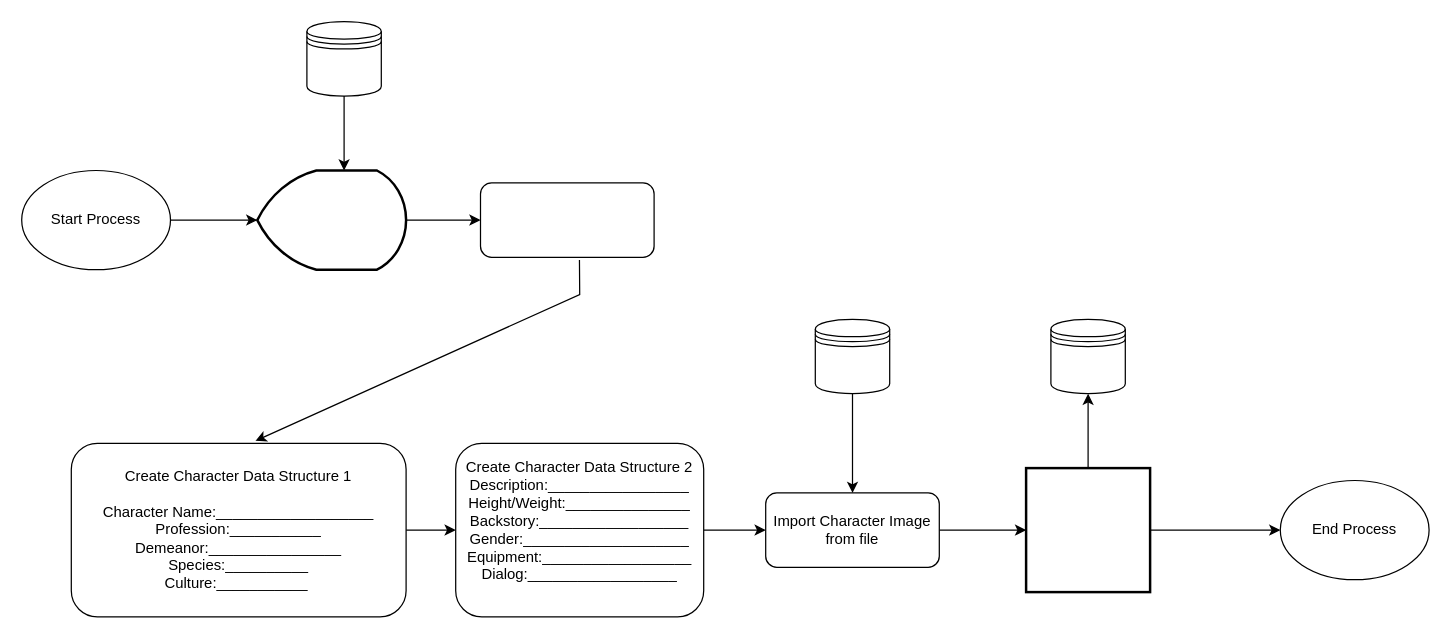
The diagram is 1451 pixels wide and 639 high, and some of its shapes have lost their labels. Each missing label, with the centre of its shape:
"Create Faction Data Structure" belongs at point 566,219.
"Display Character Options" belongs at point 331,219.
"Store Users Choices as a new player Data entry" belongs at point 1087,529.
